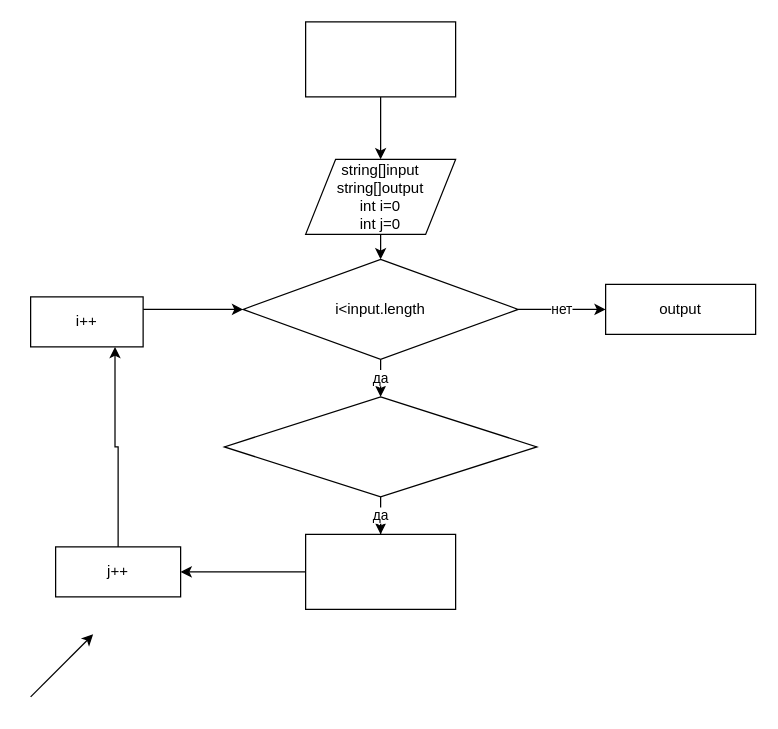
Some shapes in this 778 by 729 pixel diagram are drawn without their labels. Each missing label, with the box of its shape:
input[i]length<=3: (223, 396, 537, 497)
output[j]=input[i]: (304, 533, 456, 609)
начало: (304, 21, 456, 97)
